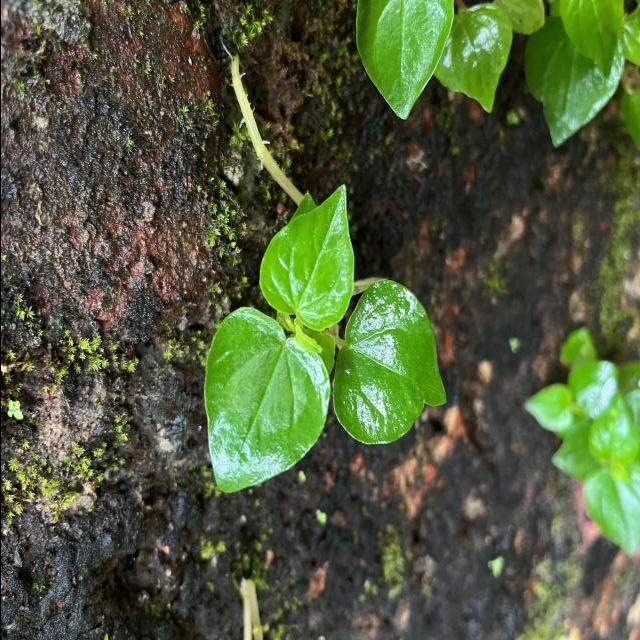Peperomia pellucida: (200, 302, 332, 498), (328, 273, 452, 449), (254, 176, 357, 334)
